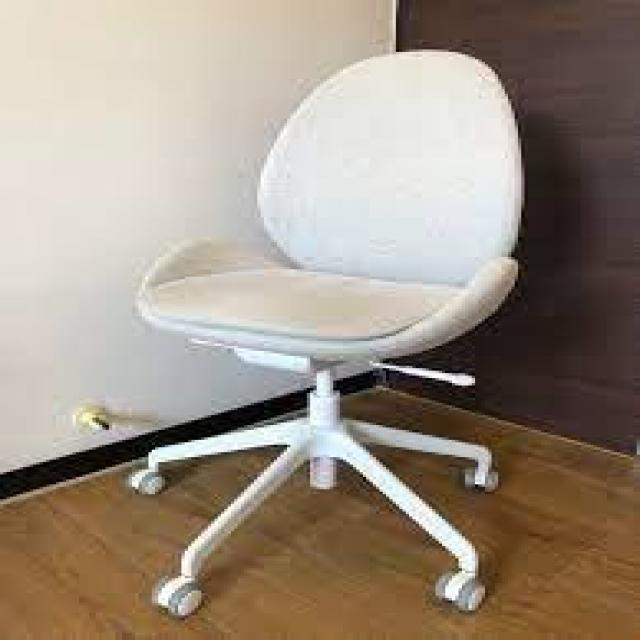chair: (58, 49, 566, 618)
